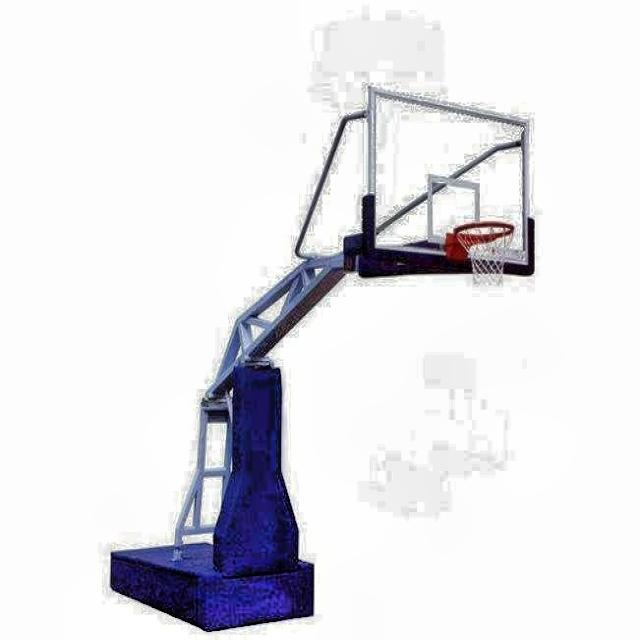rim: (455, 221, 516, 287)
